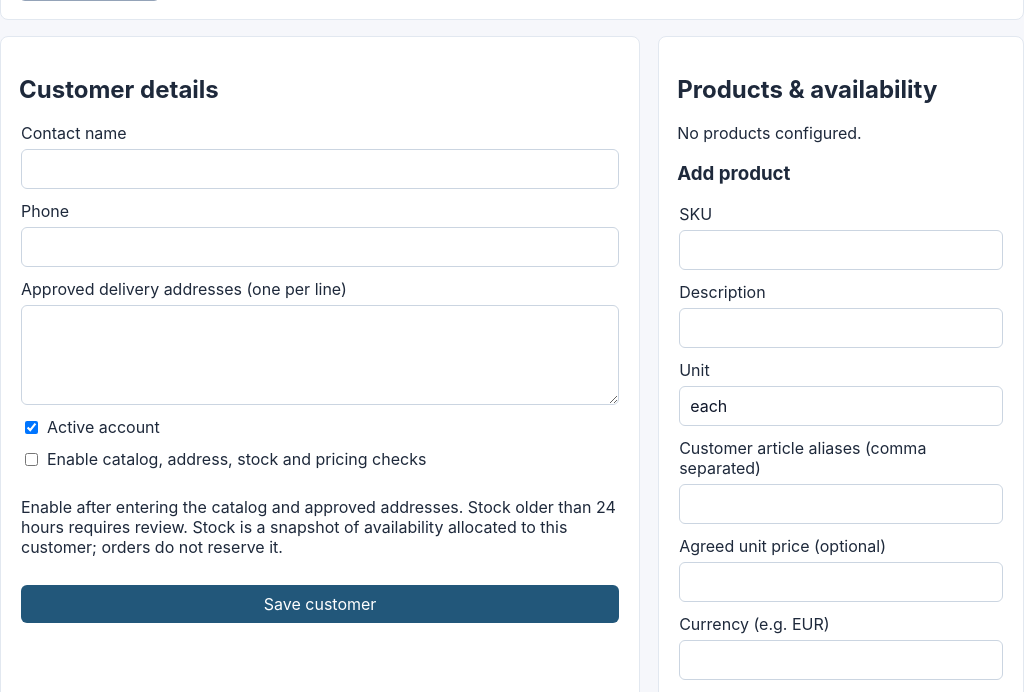
Test: MasterDataPage › loads customer data and saves an administrator's approved addresses
(page scrolled)
Type "Warehouse A" into the text box labelled "Approved delivery addresses (one per line)".
click(320, 355); type("Warehouse A")  # box 21,305 -> 619,405
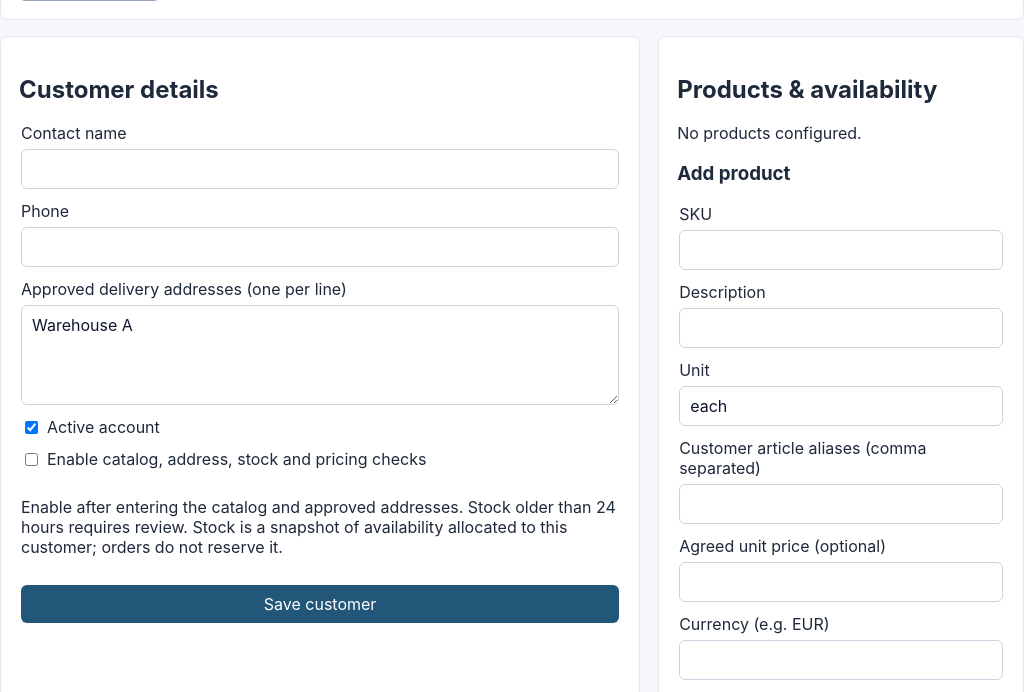
Click the button "Save customer".
click(320, 604)  # box 21,585 -> 619,623
(page scrolled)
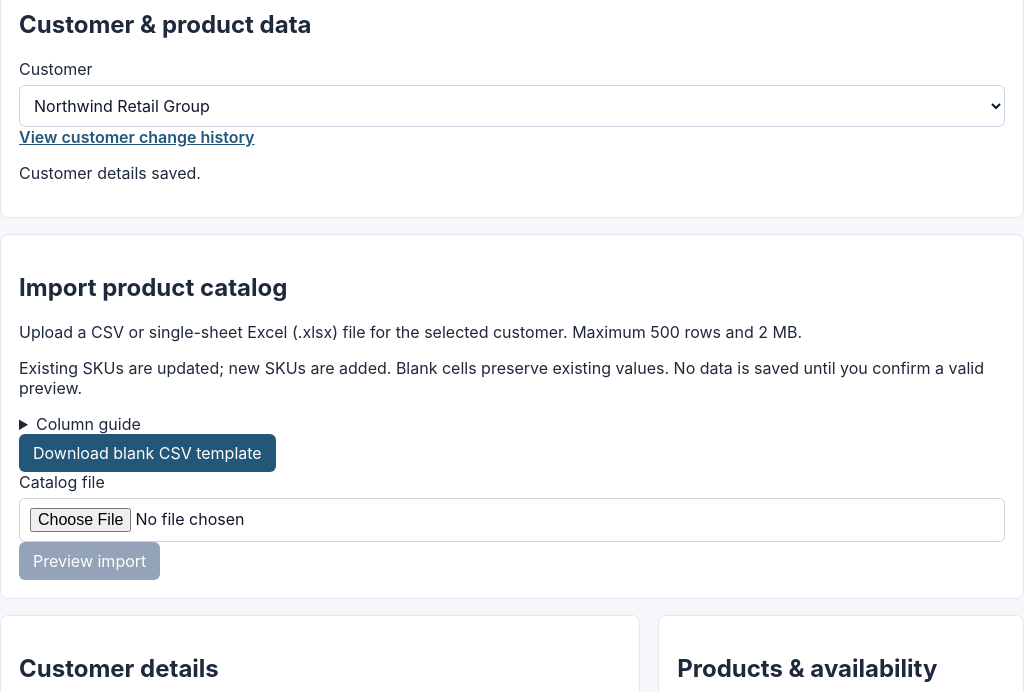
Expected: the text "Customer details saved." is shown, 19,163 -> 201,183
